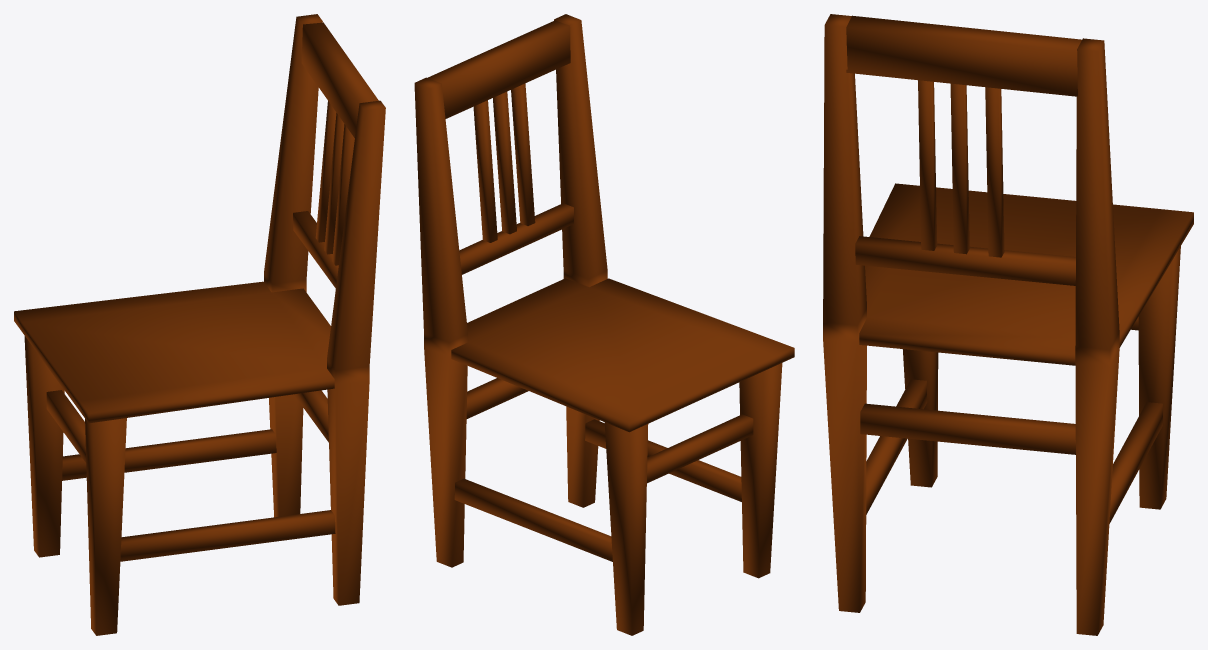
File: pcraven_wood_chair3.fbx
3 views of the same model, side by side, from view 1: azimuth 30°, elevation 25°; view 2: azimuth 150°, elevation 25°; view 3: azimuth 270°, elevation 25° (orthographic). The views are drawn at different scales.
Parts seen in each view (by area): view 1: Wooden_Chair; view 2: Wooden_Chair; view 3: Wooden_Chair.
Part boxes in pixels (<box>): Wooden_Chair: <box>14,14,385,635</box>; Wooden_Chair: <box>414,14,794,635</box>; Wooden_Chair: <box>823,14,1193,635</box>.
Size of what is drawn, in the model's own units: 0.53 by 0.8009 by 0.4501.
